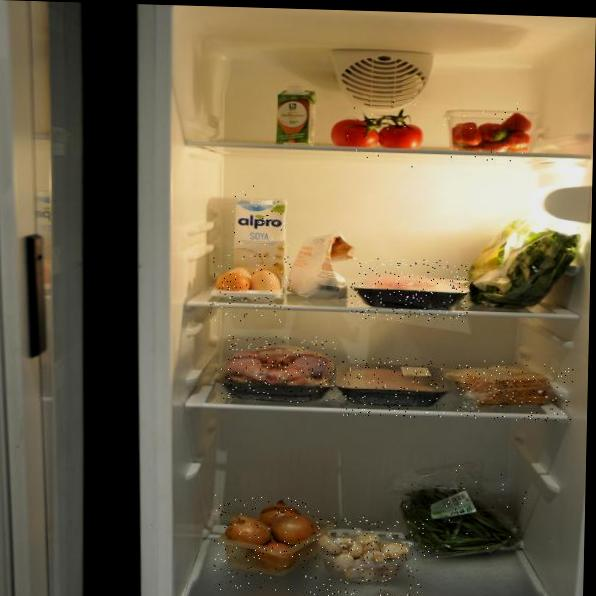bread: (456, 360, 574, 422)
chicken: (220, 334, 336, 404)
eggs: (210, 254, 291, 324)
green beans: (388, 463, 528, 562)
meat: (350, 258, 469, 322), (341, 356, 445, 418)
milk: (229, 185, 291, 280)
mushroom: (310, 516, 426, 596)
onion: (213, 495, 327, 594)
strawberry: (437, 101, 541, 170)
tomatoes: (326, 100, 427, 168)
